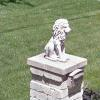Statue: (31, 4, 80, 73)
